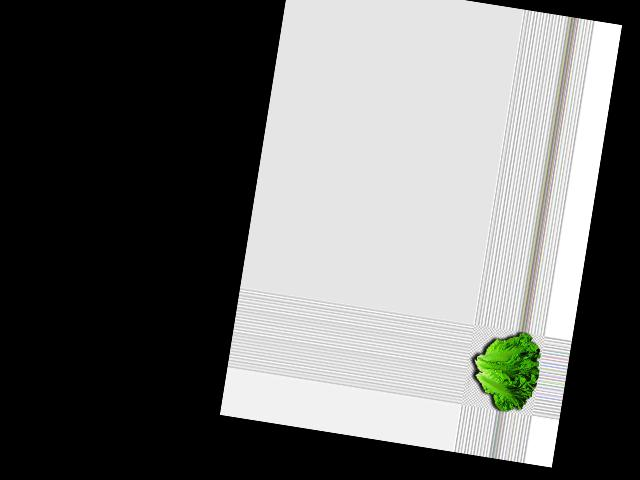lettuce: (465, 327, 544, 417)
